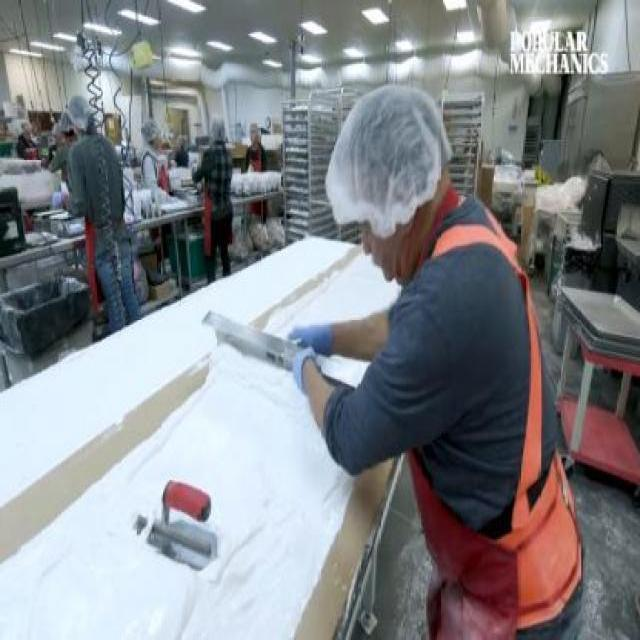gloved_hand: (290, 308, 349, 352), (283, 342, 321, 386)
